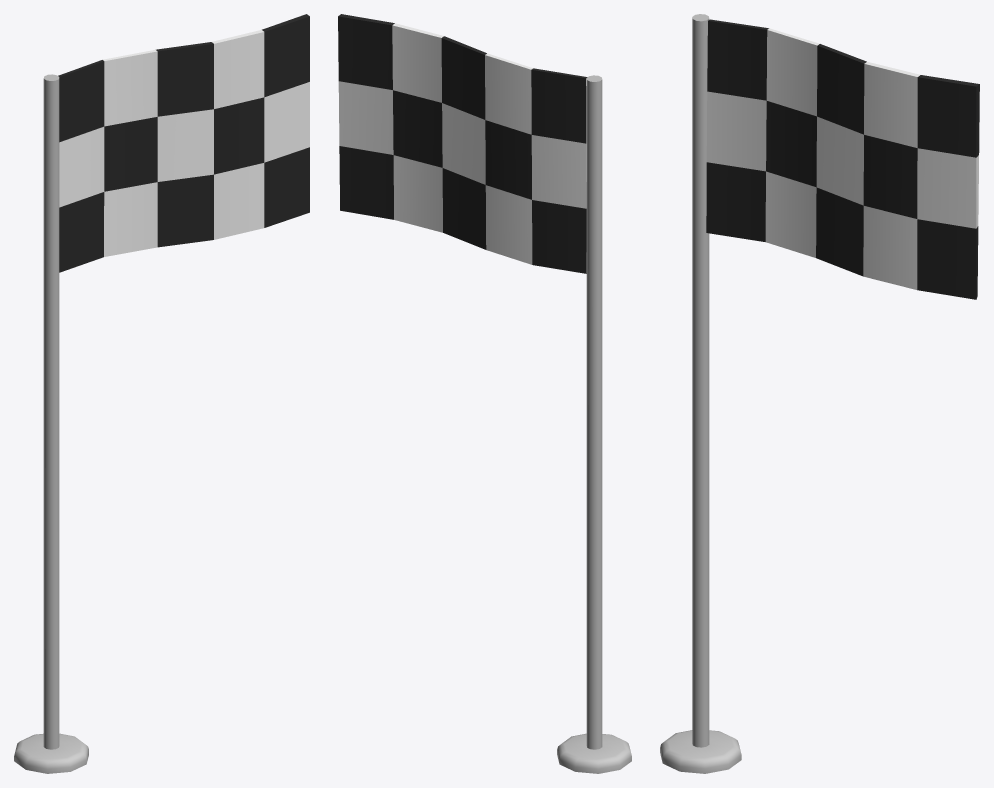
File: Race Flag.fbx
The picture shows the model from 3 angles, left to right: view 1: azimuth 30°, elevation 25°; view 2: azimuth 150°, elevation 25°; view 3: azimuth 330°, elevation 25°; orthographic projection. The views are drawn at different scales.
Visible parts, largest first — view 1: Race Flag; view 2: Race Flag; view 3: Race Flag.
Boxes of the visible parts, <box> form: Race Flag: <box>14,14,309,773</box>; Race Flag: <box>338,14,631,773</box>; Race Flag: <box>660,14,979,773</box>.
Size of the model in its own units: 0.5939 by 1.34 by 0.1372.
